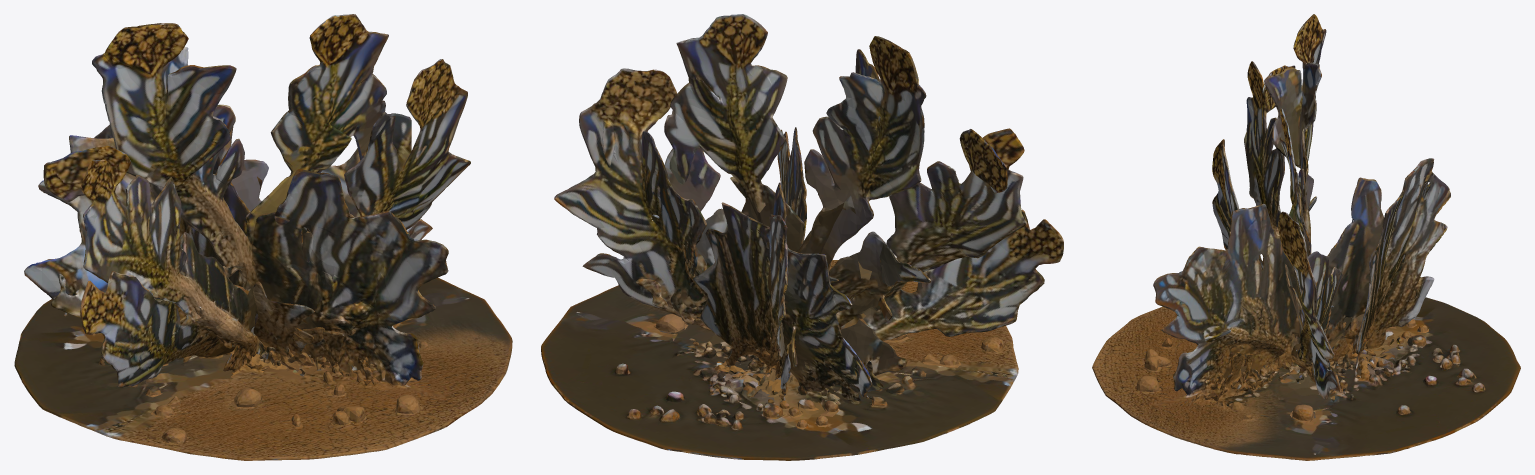
Rendered from desert-cactus-bush-5.glb.
3 views of the same model, side by side, from view 1: azimuth 30°, elevation 25°; view 2: azimuth 150°, elevation 25°; view 3: azimuth 270°, elevation 25° (orthographic). The views are drawn at different scales.
Visible parts, largest first — view 1: textured_mesh.obj; view 2: textured_mesh.obj; view 3: textured_mesh.obj.
Boxes of the visible parts, bbox=[...] form: textured_mesh.obj: bbox=[14, 14, 512, 460]; textured_mesh.obj: bbox=[541, 14, 1063, 460]; textured_mesh.obj: bbox=[1092, 14, 1520, 460].
Bounding box in the file's own units: 1.99 × 1.49 × 1.9.
Materials: 1 (1 with a texture image).
